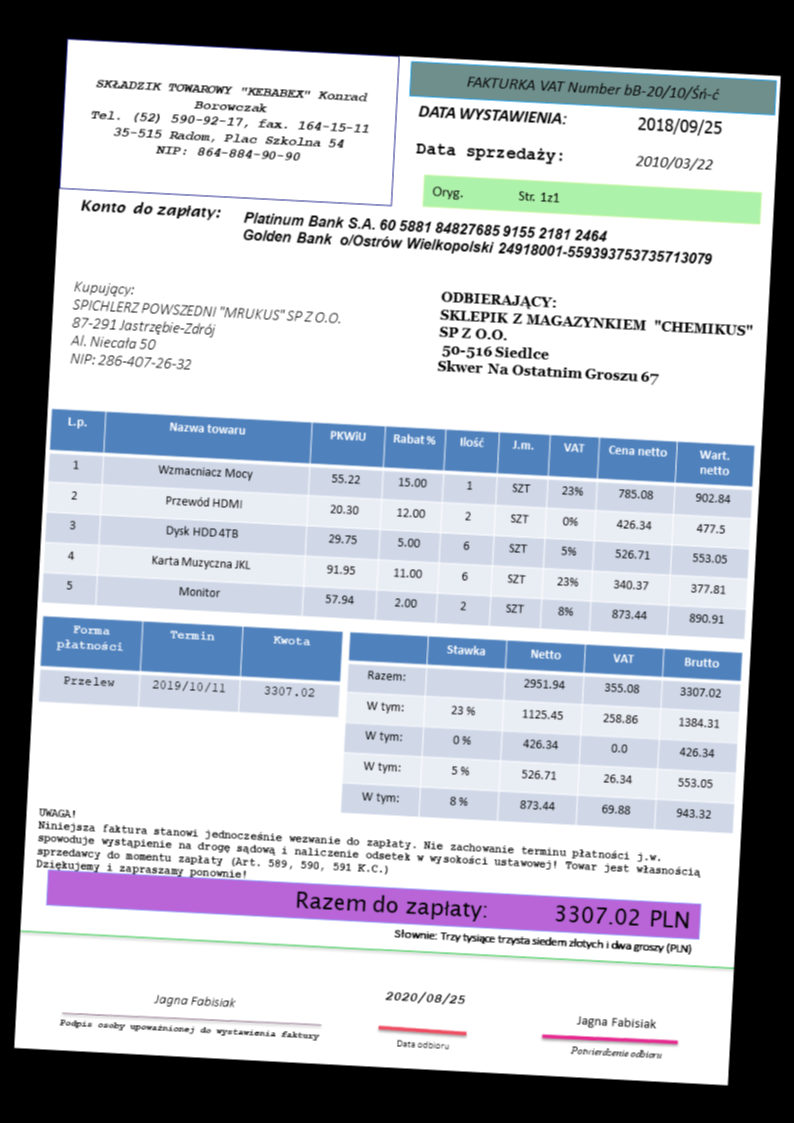Table: (39, 406, 756, 639), (340, 631, 743, 835), (35, 613, 344, 719)
TextBox: (33, 805, 702, 906), (435, 288, 754, 390), (239, 207, 714, 268), (66, 276, 343, 380), (88, 75, 373, 168), (292, 885, 691, 935), (391, 925, 693, 958), (462, 72, 723, 104), (56, 1015, 320, 1043), (413, 137, 566, 167), (415, 101, 569, 128), (76, 196, 222, 224), (429, 182, 562, 207), (634, 112, 724, 137), (568, 1042, 664, 1062), (574, 1012, 656, 1032), (633, 153, 715, 172), (151, 992, 236, 1010), (383, 988, 467, 1006), (393, 1036, 451, 1052)
